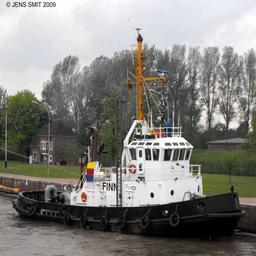Ship: (9, 87, 247, 240)
